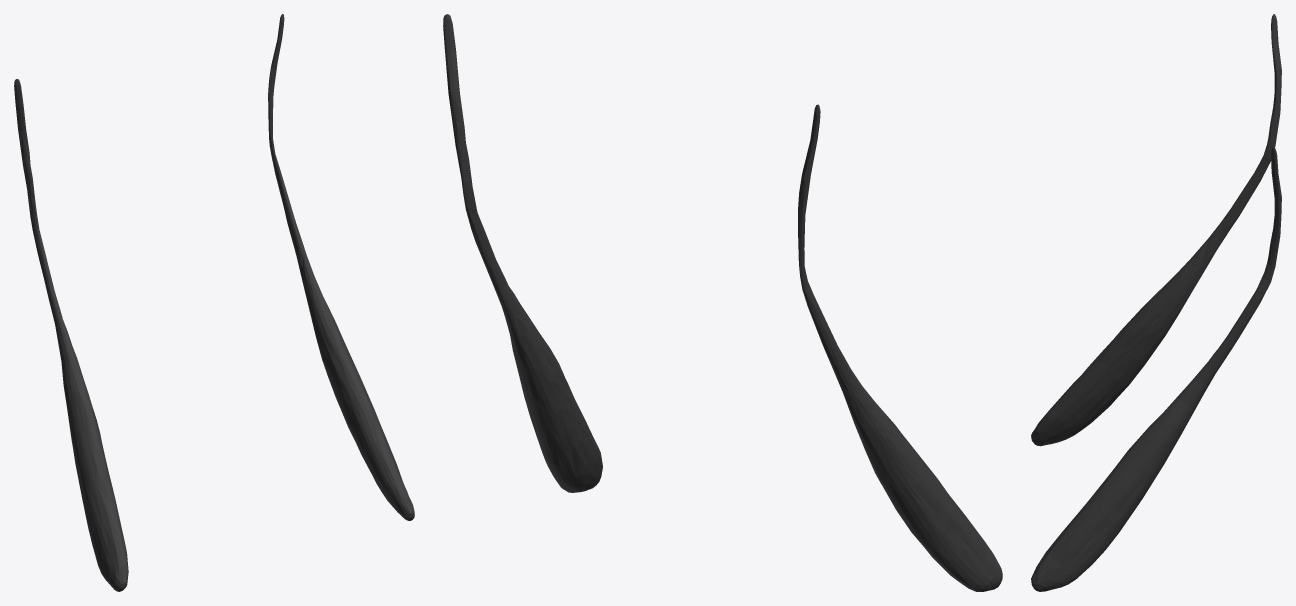
The model's file is m_flexor_digitorum_lateralis.glb.
The picture shows the model from 3 angles, left to right: view 1: azimuth 30°, elevation 25°; view 2: azimuth 150°, elevation 25°; view 3: azimuth 270°, elevation 25°; orthographic projection. The views are drawn at different scales.
Visible parts, largest first — view 1: m_flexor_digitorum_lateralis; view 2: m_flexor_digitorum_lateralis; view 3: m_flexor_digitorum_lateralis.
Part boxes in pixels (x1,y1,x2,y2): m_flexor_digitorum_lateralis: (14,14,414,591); m_flexor_digitorum_lateralis: (443,14,1002,591); m_flexor_digitorum_lateralis: (1031,14,1281,591).
Bounding box in the file's own units: 0.0509 × 0.0687 × 0.0357.
Materials: 1 (1 with a texture image).
